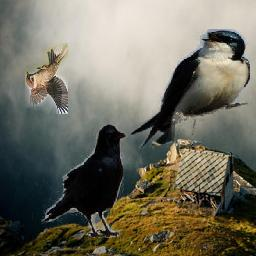Crow: (42, 122, 129, 238)
Sparrow: (26, 44, 69, 115)
Swallow: (130, 29, 251, 149)
